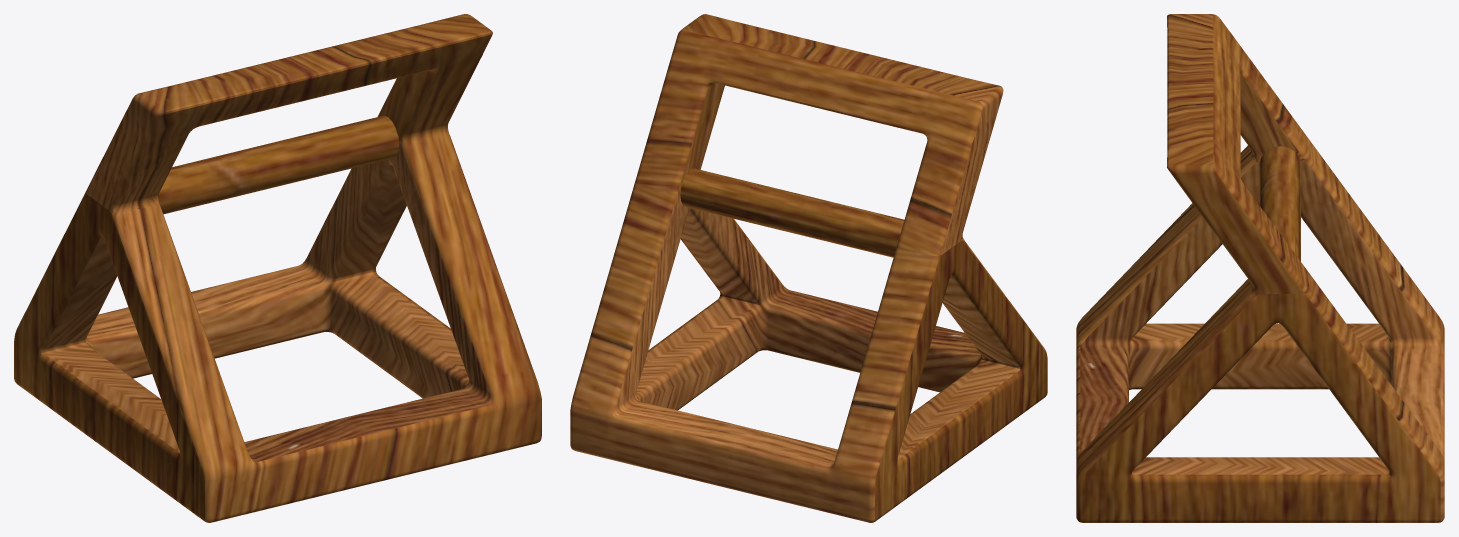
The picture shows the model from 3 angles, left to right: view 1: azimuth 30°, elevation 25°; view 2: azimuth 150°, elevation 25°; view 3: azimuth 270°, elevation 25°; orthographic projection. The views are drawn at different scales.
Visible parts, largest first — view 1: base_wood; view 2: base_wood; view 3: base_wood.
Boxes of the visible parts, box(x1,y1,x2,y2) form: base_wood: box(14, 14, 541, 522); base_wood: box(570, 14, 1047, 522); base_wood: box(1076, 14, 1444, 522).
Bounding box in the file's own units: 0.6784 × 0.7262 × 0.6784.
Materials: 1 (1 with a texture image).
